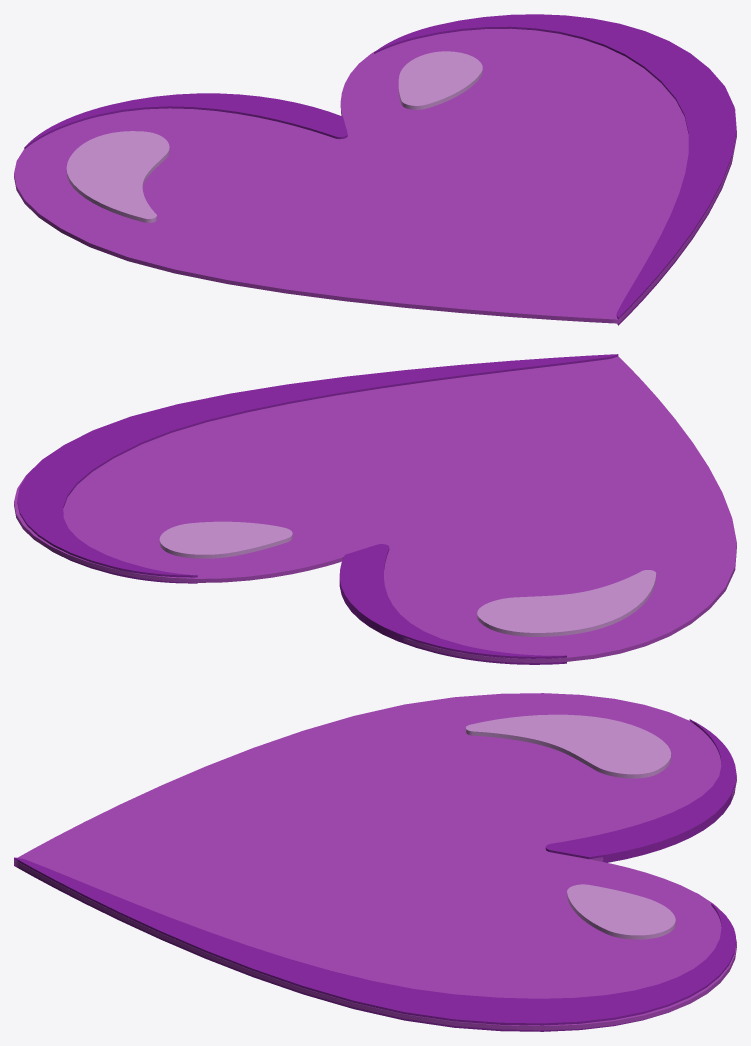
File: emoji_u1f49c.glb
3 views of the same model, one above another, from view 1: azimuth 30°, elevation 25°; view 2: azimuth 150°, elevation 25°; view 3: azimuth 270°, elevation 25° (orthographic). The views are drawn at different scales.
Visible parts, largest first — view 1: emoji_u1f49c; view 2: emoji_u1f49c; view 3: emoji_u1f49c.
Boxes of the visible parts, x1,y1,x2,y2 form: emoji_u1f49c: (14,14,736,325); emoji_u1f49c: (14,354,736,664); emoji_u1f49c: (14,693,736,1031).
Size of the model in its own units: 0.0339 by 0.0006 by 0.0311.
